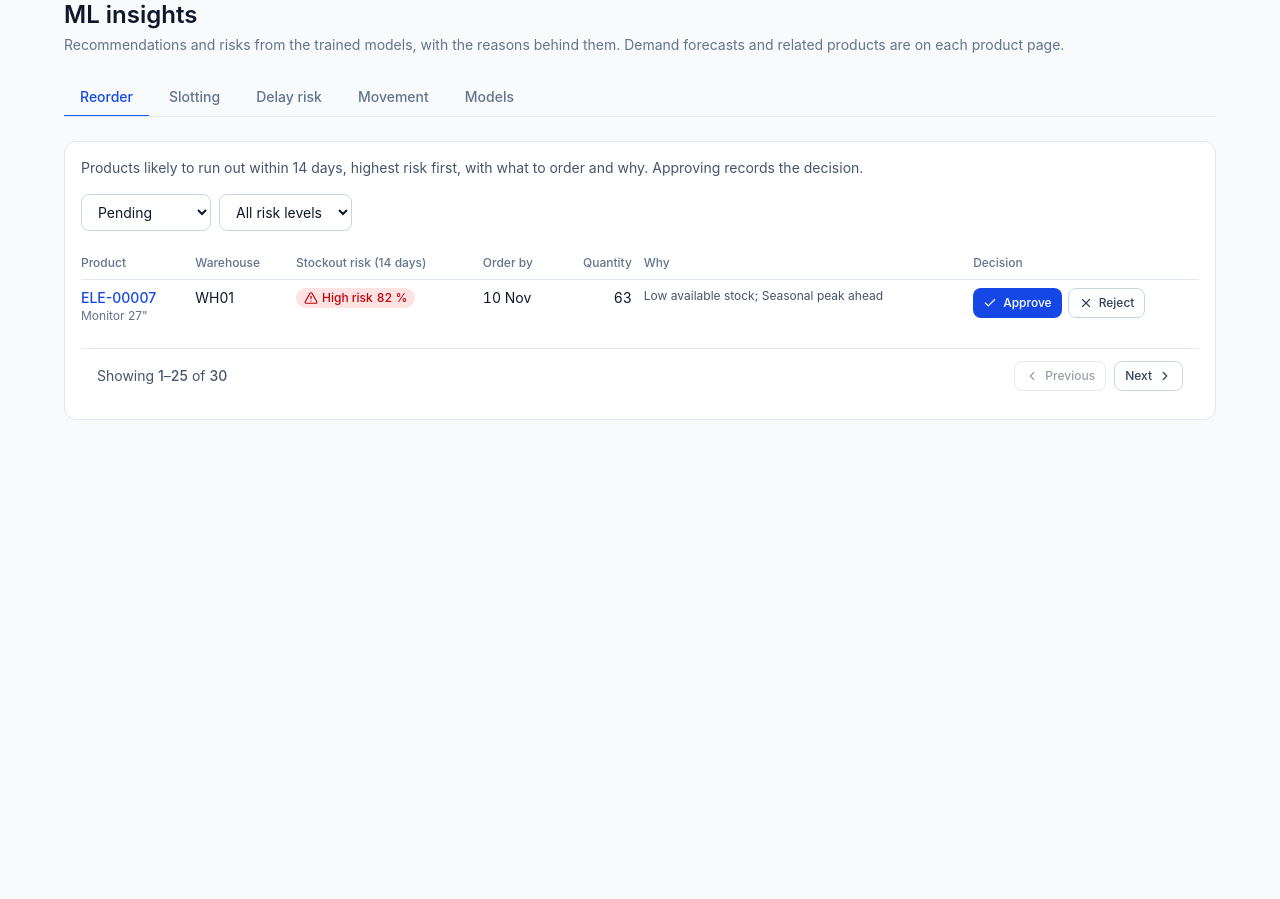
Scenario: MLInsightsPage › switches tabs and keeps the tab in the address bar
Expected: the link "ELE-00007" is shown, [81,289,156,306]
Click the tab "Delay risk": (289, 98) [240,79,338,117]
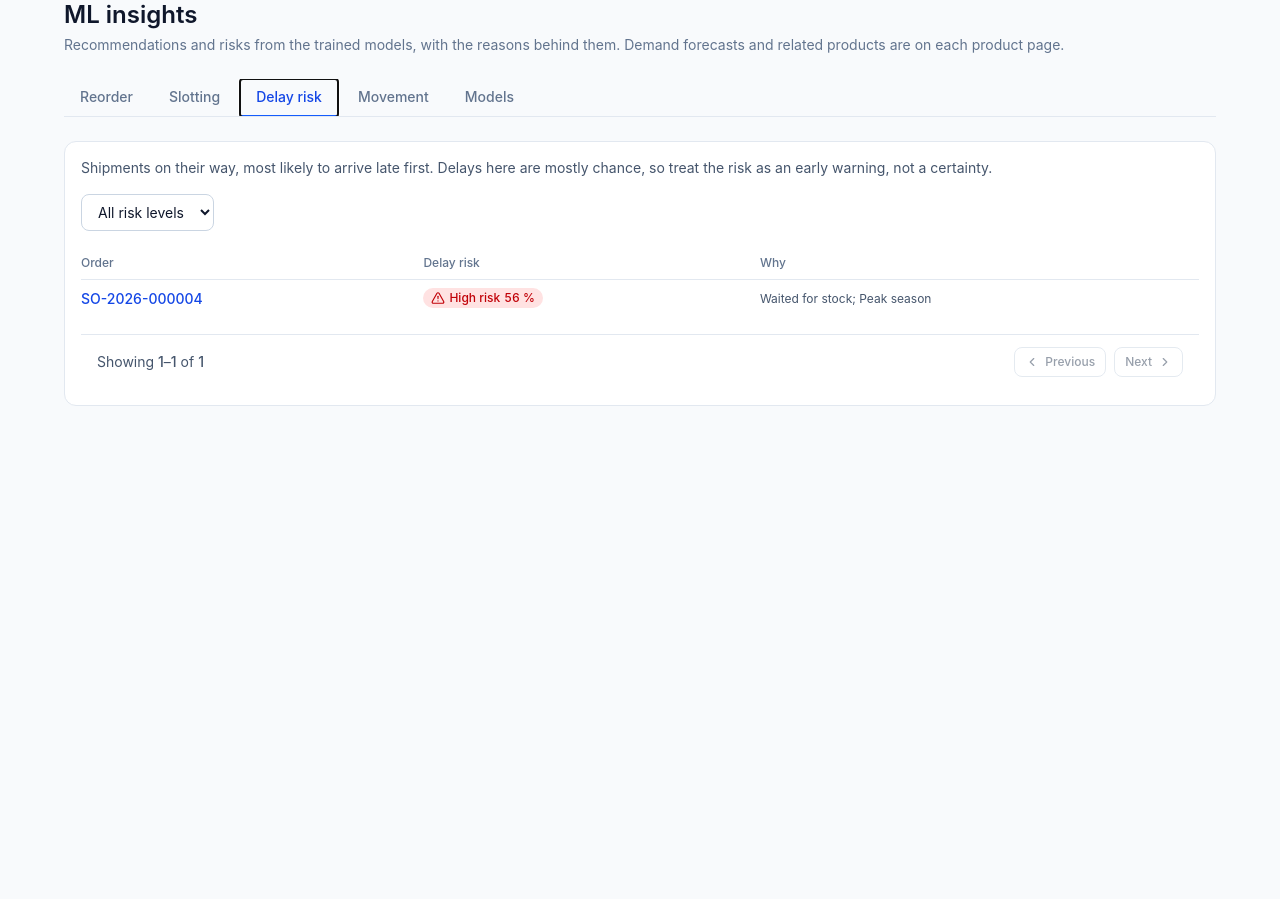
Result: the text "Waited for stock; Peak season" is shown at [760,280,1199,318]
Click the tab "Movement": (393, 98) [342,79,445,117]
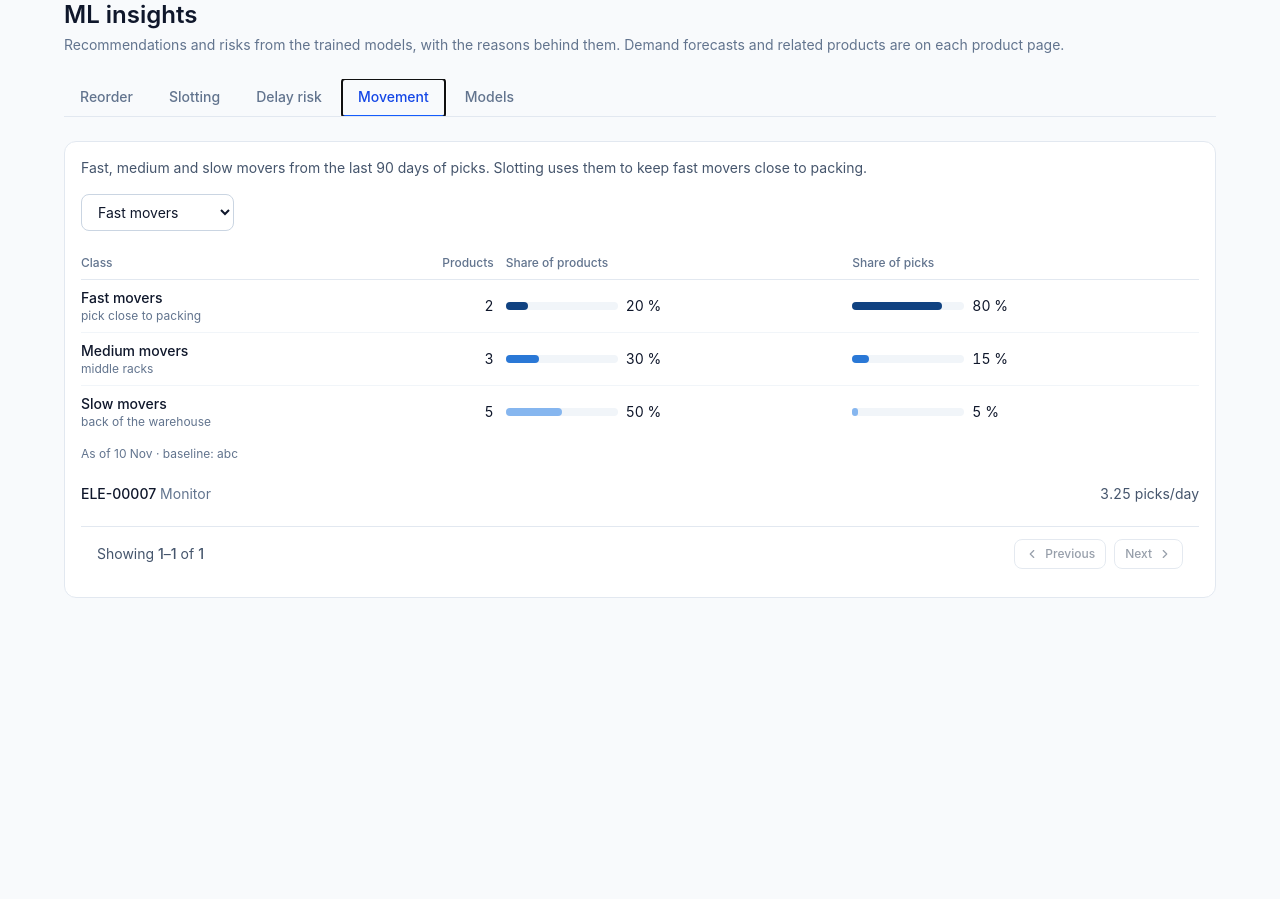
Result: the row "Fast movers pick close to packing 2 20 % 80 %" is shown at [81,280,1199,332]
Result: the text "3.25 picks/day" is shown at [1100,484,1199,504]
Click the tab "Models": (489, 98) [449,79,530,117]
(page scrolled)
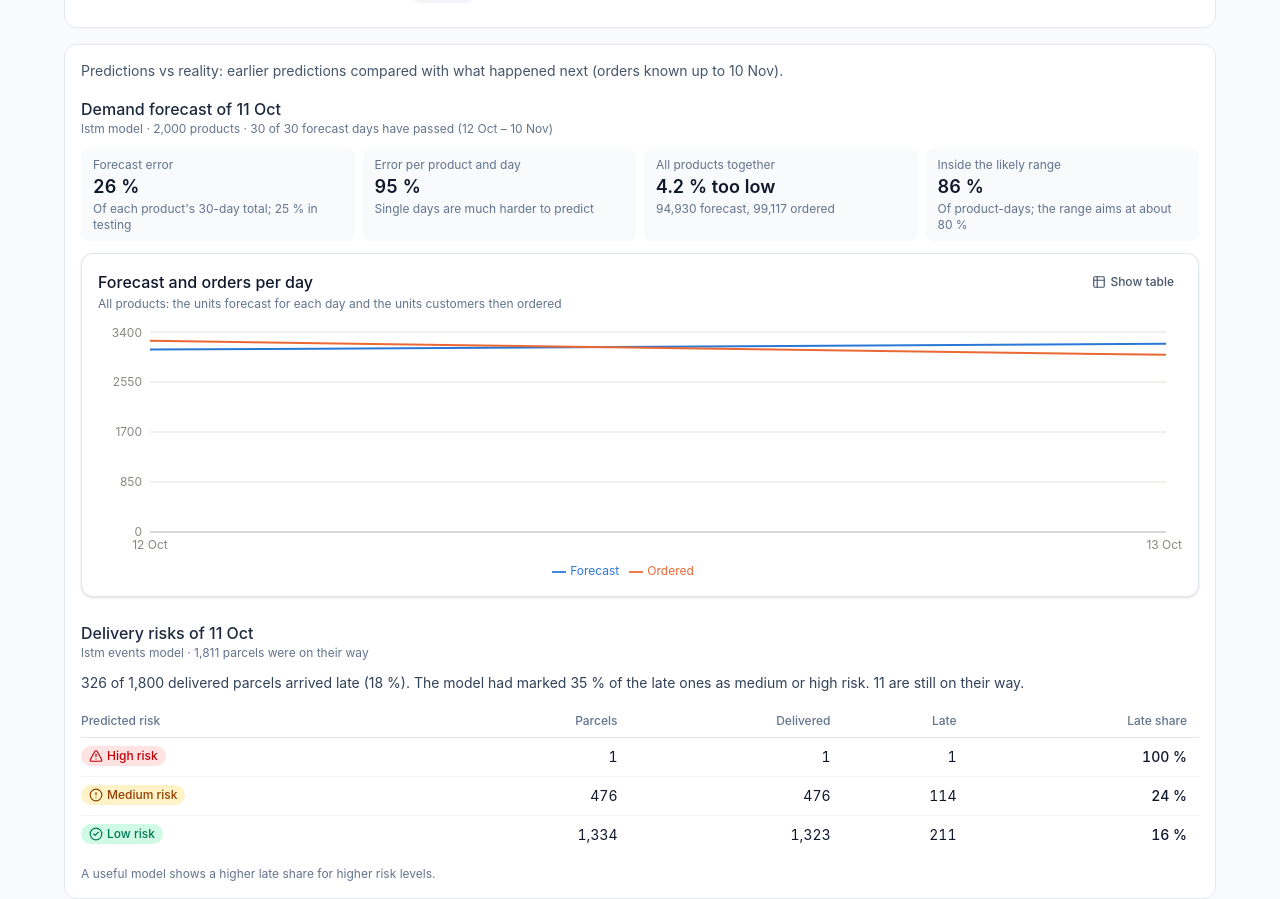
Result: the text "orders known up to 10 Nov" is shown at [81,62,783,79]
Result: the element "Delivery risks of 11 Oct" shows "326 of 1,800 delivered parcels arrived late" at [81,621,1199,882]
